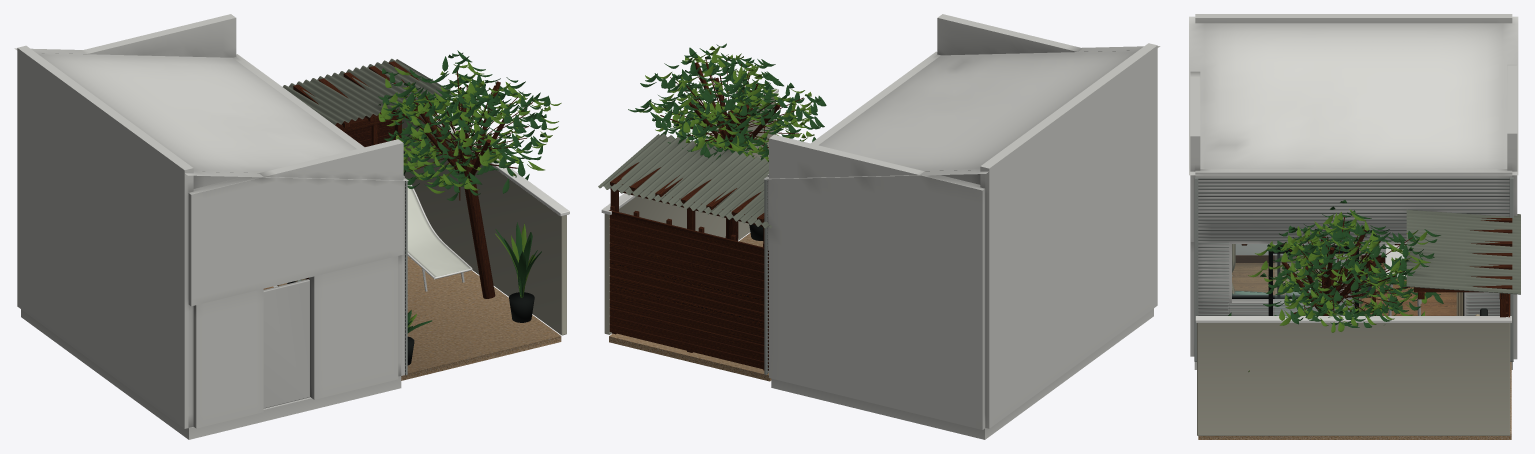
File: house.glb
3 views of the same model, side by side, from view 1: azimuth 30°, elevation 25°; view 2: azimuth 150°, elevation 25°; view 3: azimuth 270°, elevation 25° (orthographic). The views are drawn at different scales.
Parts seen in each view (by area): view 1: Surface Plaster warm white, Surface Paint ivory, Patio boundary, Terrace gravel, Surface Plant green, Surface Plant light, Corrugated patio roof, Surface Wood warm dark, Curved pale lounger, Surface Oak light, Surface Pots charcoal, Surface Facade ribbed mineral grey; view 2: Surface Plaster warm white, Surface Paint ivory, Surface Oak light, Corrugated patio roof, Surface Plant green, Surface Plant light, Patio boundary, Surface Wood warm dark, Terrace gravel, Surface Facade ribbed mineral grey; view 3: Surface Paint ivory, Patio boundary, Surface Plaster warm white, Surface Facade ribbed mineral grey, Corrugated patio roof, Surface Plant green, Surface Plant light, Surface Window glass, Surface Floor scanned timber, Surface Wood warm dark, Surface Oak light, Terrace gravel (+2 smaller).
Part boxes in pixels (bbox=[...]): Surface Plaster warm white: bbox=[17, 14, 404, 439]; Surface Paint ivory: bbox=[14, 48, 569, 408]; Patio boundary: bbox=[402, 115, 566, 335]; Terrace gravel: bbox=[277, 256, 561, 380]; Surface Plant green: bbox=[378, 50, 550, 333]; Surface Plant light: bbox=[378, 62, 561, 327]; Corrugated patio roof: bbox=[283, 58, 454, 125]; Surface Wood warm dark: bbox=[394, 71, 532, 298]; Curved pale lounger: bbox=[407, 185, 469, 277]; Surface Oak light: bbox=[293, 61, 440, 279]; Surface Pots charcoal: bbox=[287, 281, 534, 365]; Surface Facade ribbed mineral grey: bbox=[405, 181, 407, 374]; Surface Plaster warm white: bbox=[767, 14, 1157, 439]; Surface Paint ivory: bbox=[601, 46, 1160, 214]; Surface Oak light: bbox=[609, 162, 768, 370]; Corrugated patio roof: bbox=[598, 133, 772, 228]; Surface Plant green: bbox=[628, 43, 826, 162]; Surface Plant light: bbox=[638, 46, 818, 161]; Patio boundary: bbox=[604, 97, 775, 334]; Surface Wood warm dark: bbox=[660, 57, 803, 240]; Terrace gravel: bbox=[609, 233, 771, 381]; Surface Facade ribbed mineral grey: bbox=[764, 179, 768, 374]; Surface Paint ivory: bbox=[1189, 16, 1518, 322]; Patio boundary: bbox=[1197, 323, 1510, 435]; Surface Plaster warm white: bbox=[1190, 14, 1517, 369]; Surface Facade ribbed mineral grey: bbox=[1194, 177, 1513, 361]; Corrugated patio roof: bbox=[1406, 209, 1520, 294]; Surface Plant green: bbox=[1228, 200, 1443, 327]; Surface Plant light: bbox=[1248, 209, 1430, 371]; Surface Window glass: bbox=[1232, 244, 1352, 315]; Surface Floor scanned timber: bbox=[1232, 263, 1456, 315]; Surface Wood warm dark: bbox=[1281, 217, 1412, 315]; Surface Oak light: bbox=[1235, 218, 1512, 317]; Terrace gravel: bbox=[1198, 362, 1511, 439].
Size of the model in its own units: 7.95 by 4.6 by 5.4.
29 materials, 5 textured.
